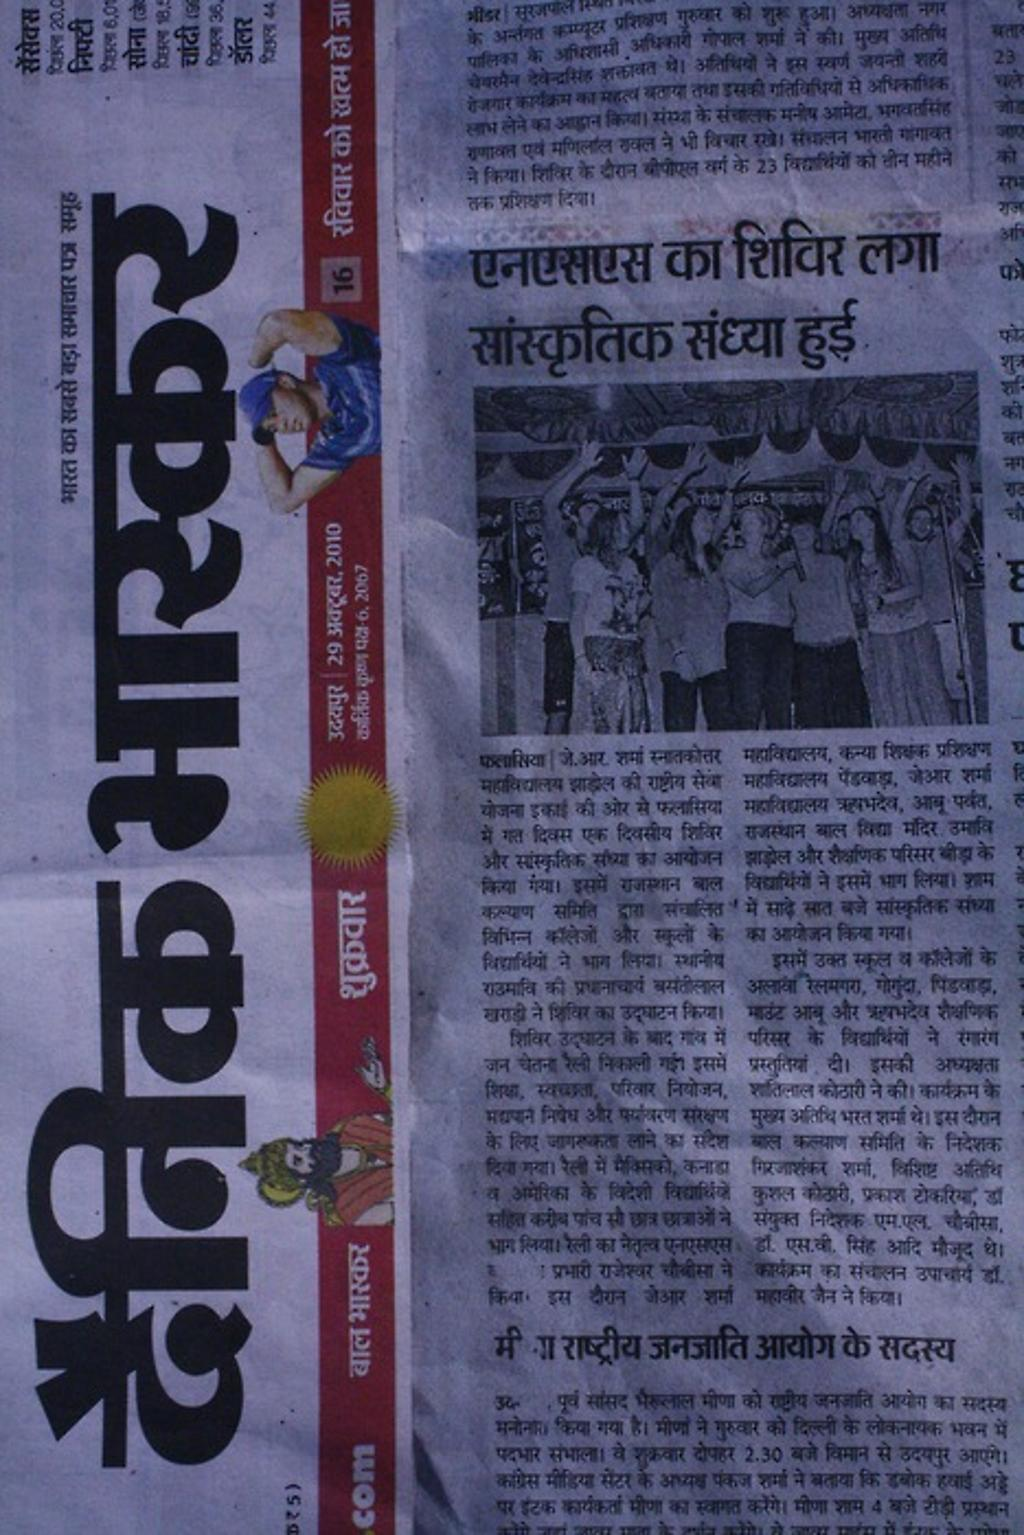face: (260, 387, 312, 434), (283, 1140, 326, 1174), (607, 514, 632, 550), (691, 507, 713, 543), (850, 511, 874, 539), (740, 513, 762, 543), (911, 510, 931, 540), (792, 524, 815, 550), (579, 503, 600, 527), (672, 497, 691, 522), (837, 520, 853, 549), (764, 510, 780, 536), (888, 487, 899, 502), (780, 523, 791, 538)
